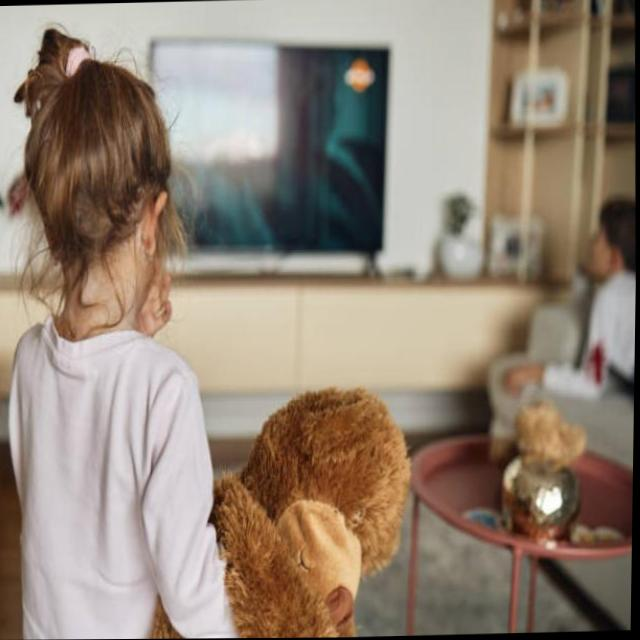no helmet: (20, 34, 178, 319)
